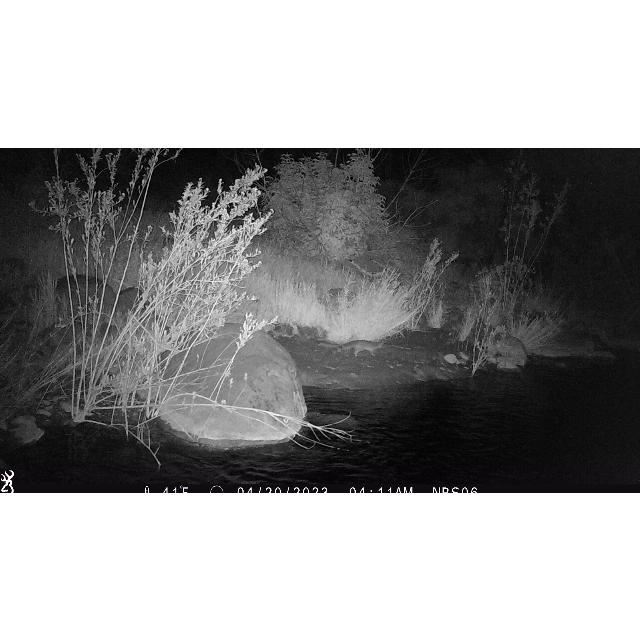animals: (329, 337, 385, 357)
